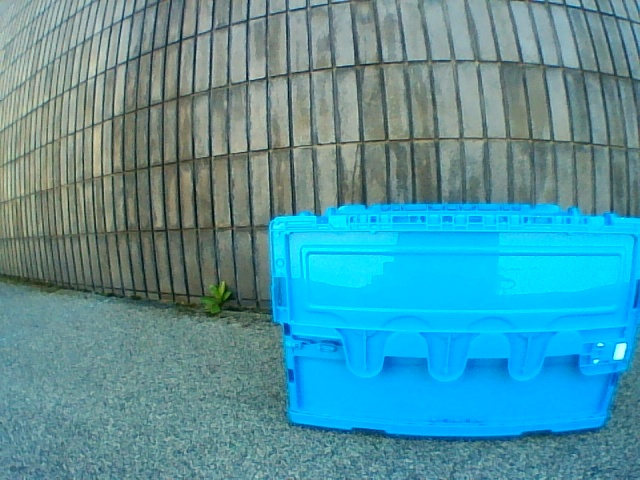blue_box: (270, 203, 640, 439)
